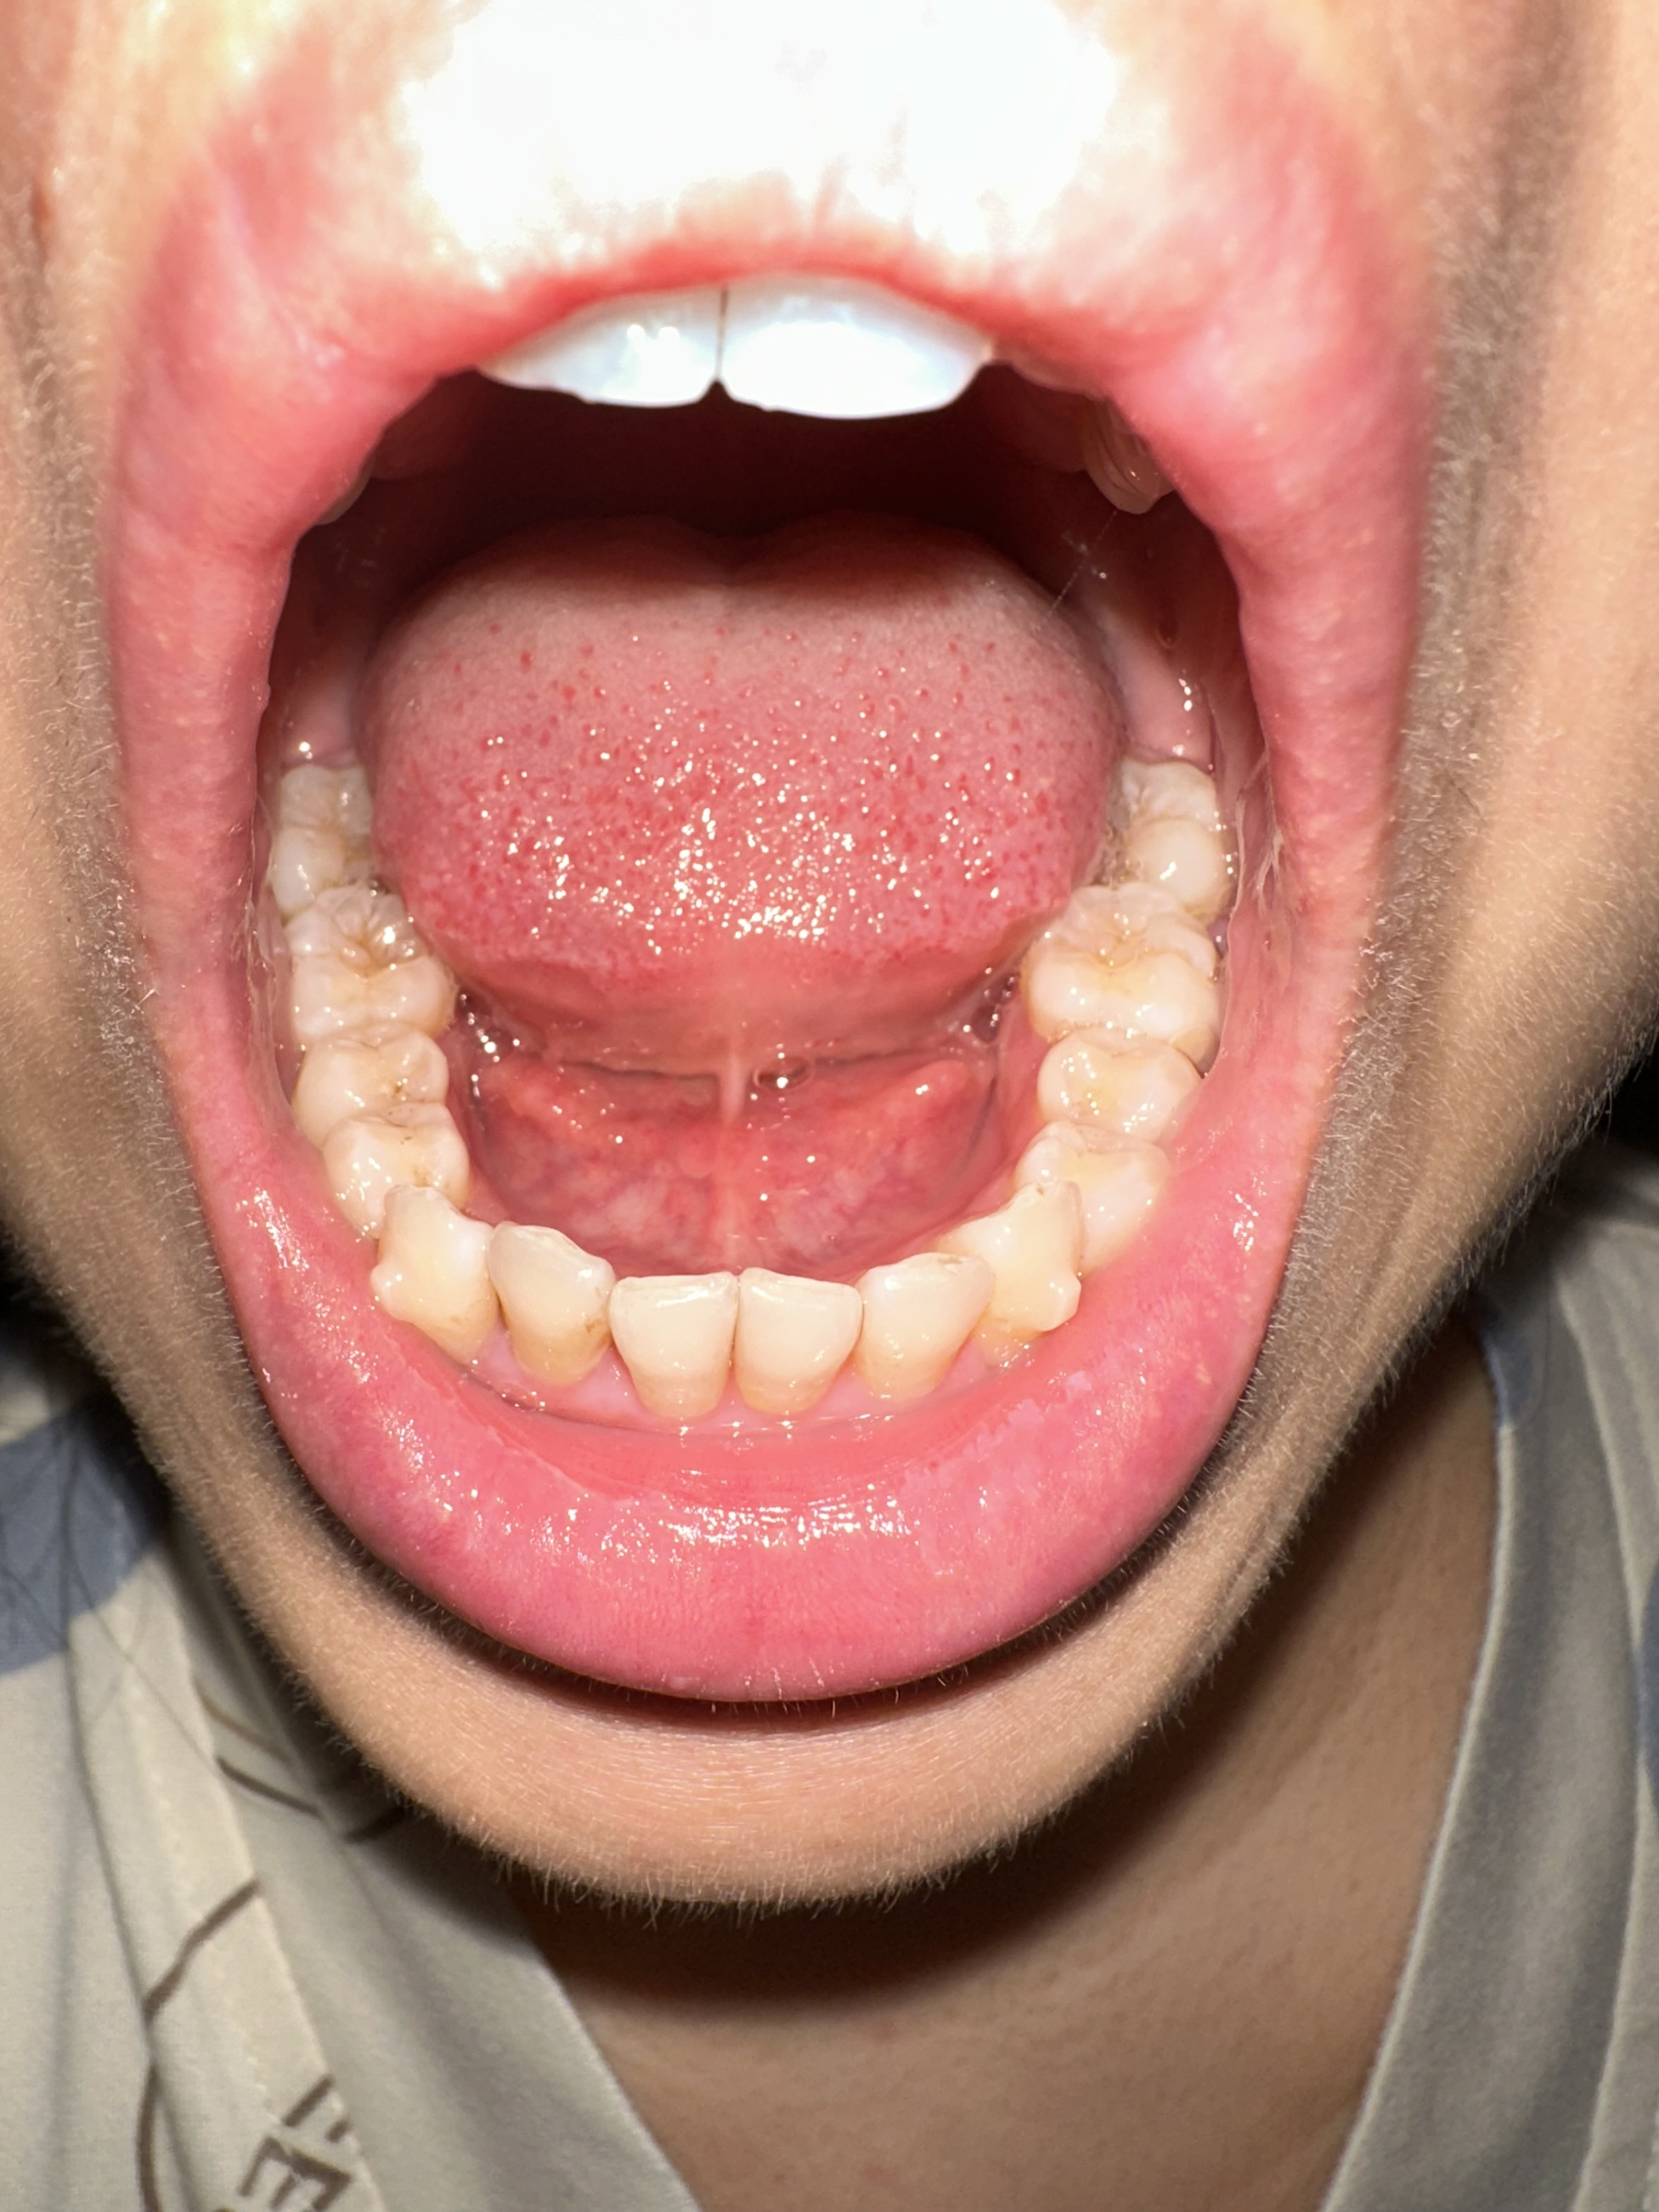teeth: (730, 272, 997, 420), (469, 280, 735, 399), (371, 1190, 491, 1369), (863, 1251, 988, 1404), (495, 1224, 605, 1393), (612, 1285, 732, 1416), (744, 1285, 850, 1416)
